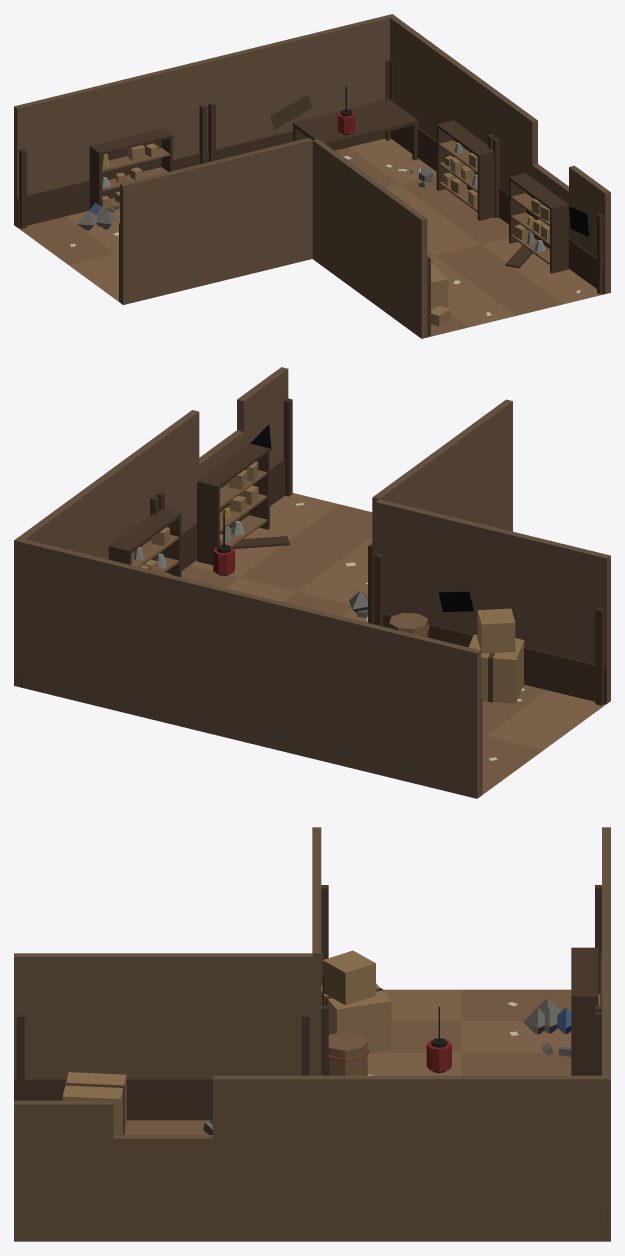
3 renders of one model, top to bottom at view 1: azimuth 30°, elevation 25°; view 2: azimuth 150°, elevation 25°; view 3: azimuth 270°, elevation 25°, orthographic. The views are drawn at different scales.
Visible parts, largest first — view 1: __B, __B_Deco; view 2: __B, __B_Deco; view 3: __B, __B_Deco.
Part boxes in pixels (x1=…): __B: x1=14, y1=14, x2=610, y2=338; __B_Deco: x1=17, y1=59, x2=605, y2=337; __B: x1=14, y1=367, x2=610, y2=798; __B_Deco: x1=21, y1=398, x2=606, y2=795; __B: x1=14, y1=827, x2=610, y2=1241; __B_Deco: x1=14, y1=885, x2=601, y2=1239.
Bounding box in the file's own units: 1.33 × 1.33 × 0.408.
